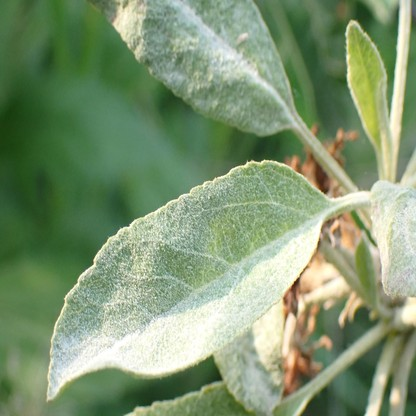powder: (46, 161, 331, 402), (89, 0, 295, 136), (213, 299, 285, 414), (370, 189, 416, 300)
